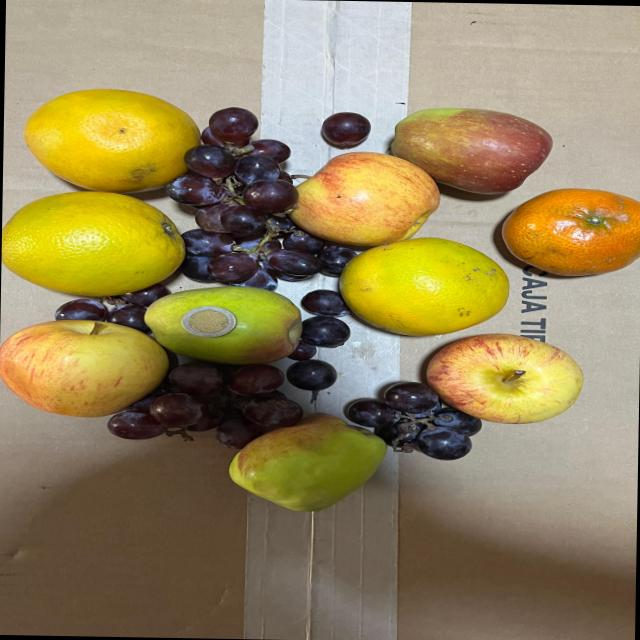moneda: (174, 306, 246, 342)
